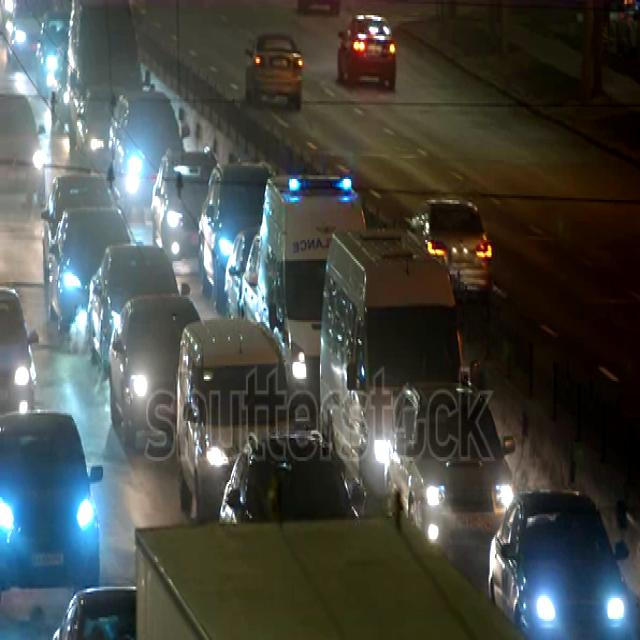ambulance: (256, 171, 370, 425)
